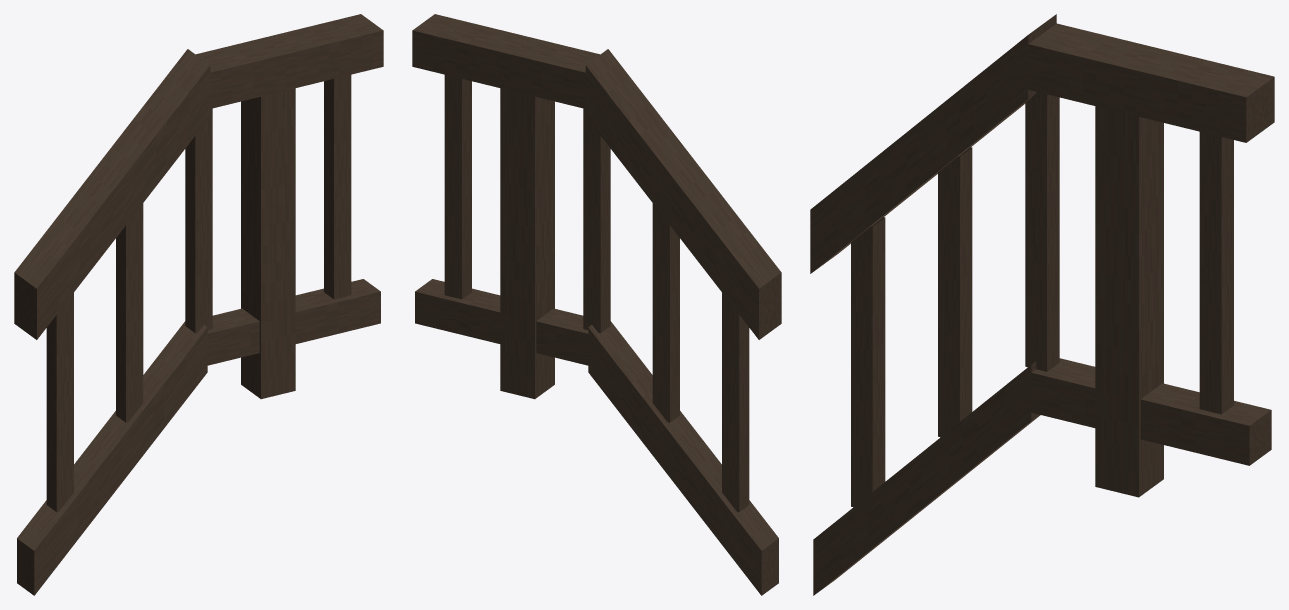
The model's file is top_pos.obj.
3 views of the same model, side by side, from view 1: azimuth 30°, elevation 25°; view 2: azimuth 150°, elevation 25°; view 3: azimuth 330°, elevation 25° (orthographic). The views are drawn at different scales.
Parts seen in each view (by area): view 1: railing_picket_bronze_top_pos; view 2: railing_picket_bronze_top_pos; view 3: railing_picket_bronze_top_pos.
Boxes of the visible parts, left/top/right/bottom form: railing_picket_bronze_top_pos: left=14, top=14, right=383, bottom=595; railing_picket_bronze_top_pos: left=412, top=14, right=781, bottom=595; railing_picket_bronze_top_pos: left=810, top=14, right=1274, bottom=595.
Size of the model in its own units: 1 by 1.35 by 0.1125.
